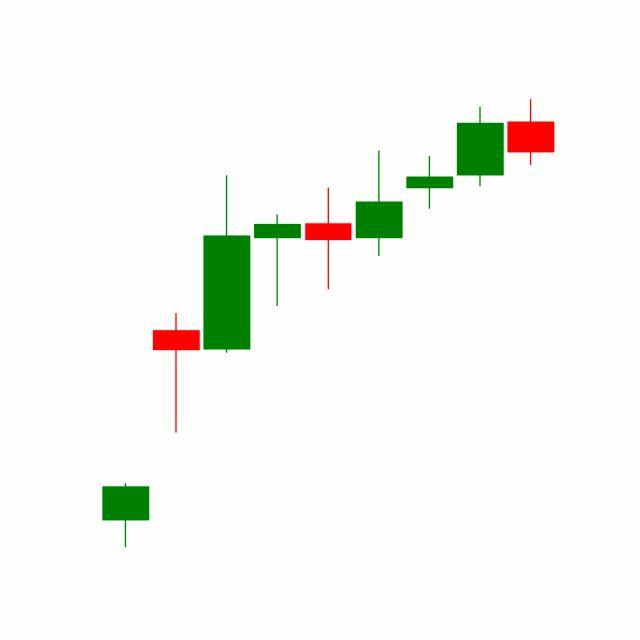Hikkake Pattern: (252, 105, 506, 309)
